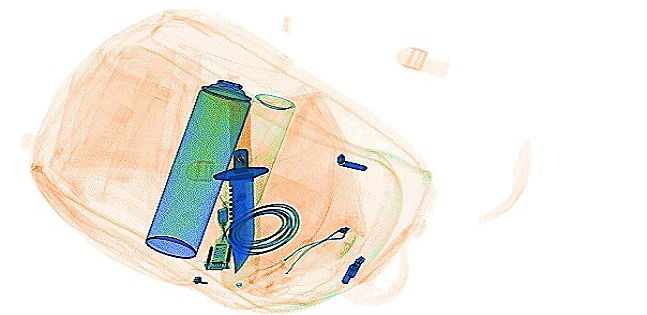knife: (212, 83, 269, 274)
pressure: (145, 71, 251, 258), (216, 93, 294, 219)
